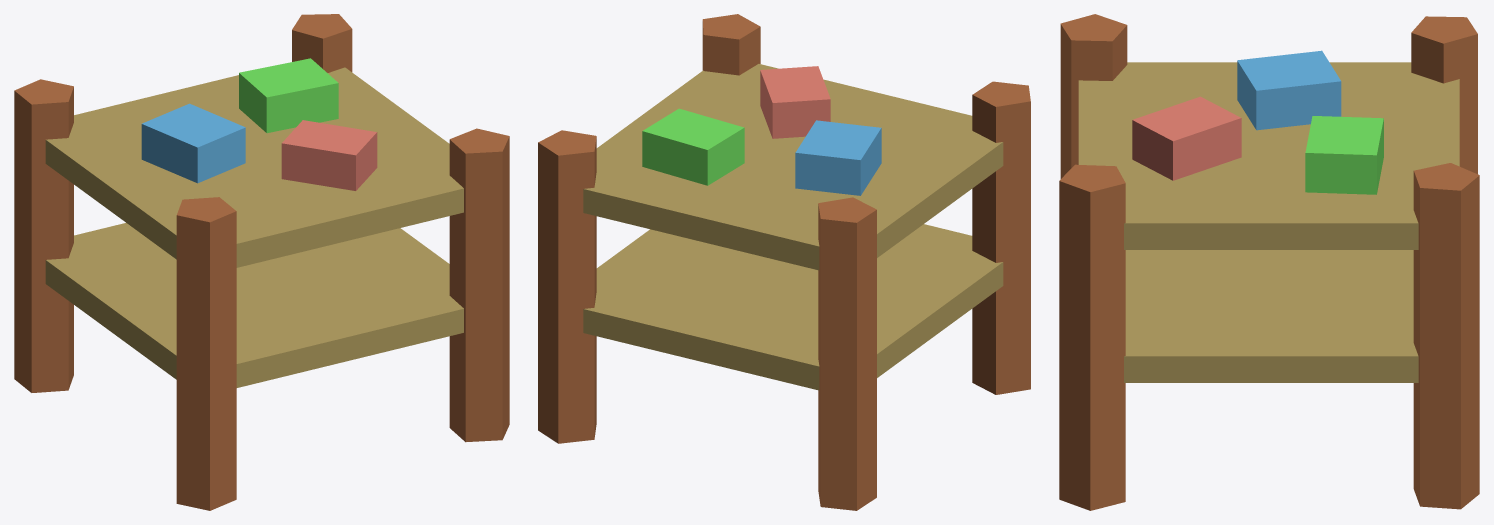
Rendered from CraftingTable.fbx.
3 views of the same model, side by side, from view 1: azimuth 30°, elevation 25°; view 2: azimuth 150°, elevation 25°; view 3: azimuth 270°, elevation 25° (orthographic). The views are drawn at different scales.
Visible parts, largest first — view 1: Cube.003; view 2: Cube.003; view 3: Cube.003.
Part boxes in pixels (bbox=[...]): Cube.003: bbox=[14, 14, 509, 510]; Cube.003: bbox=[538, 14, 1030, 510]; Cube.003: bbox=[1059, 14, 1479, 510].
Size of the model in its own units: 130 by 129 by 108.
